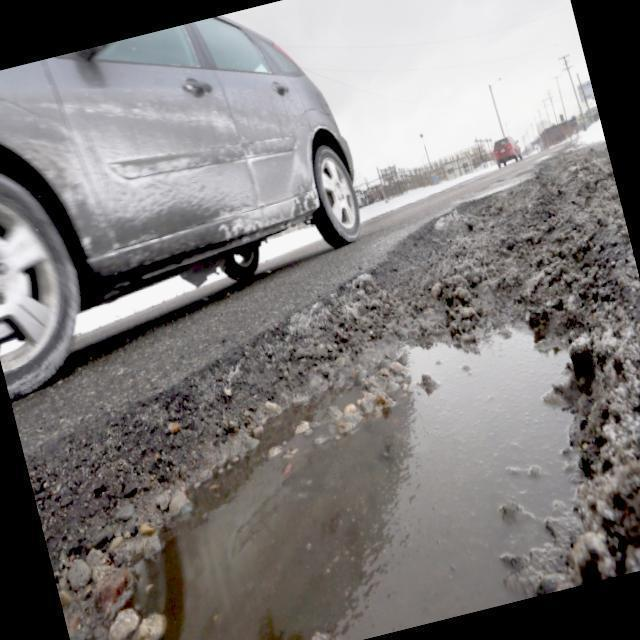Pothole: (76, 261, 613, 640)
